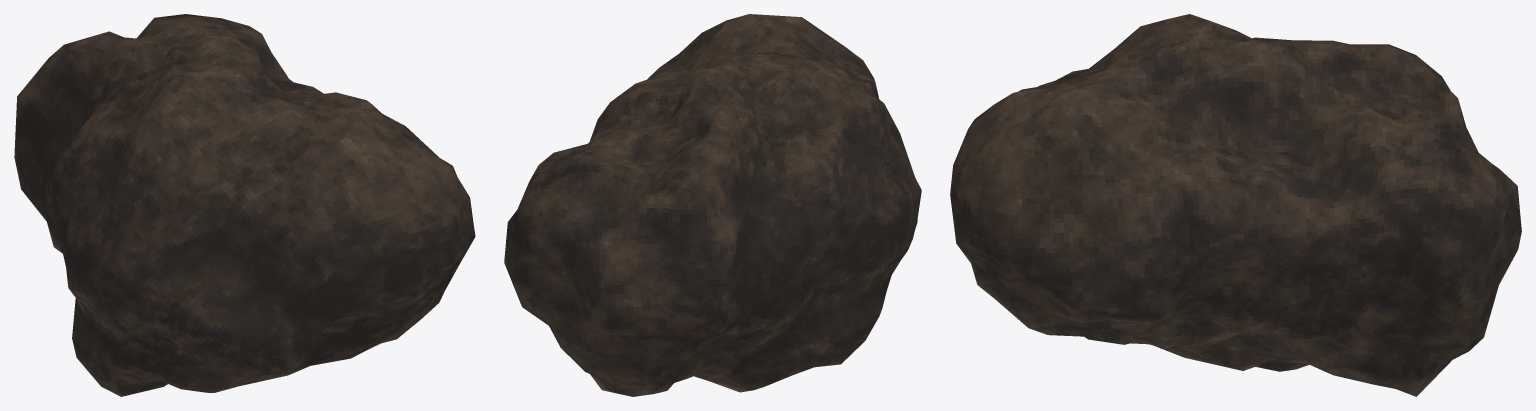
File: SM_RP2_Rock_2m_2.002.glb
3 views of the same model, side by side, from view 1: azimuth 30°, elevation 25°; view 2: azimuth 150°, elevation 25°; view 3: azimuth 270°, elevation 25° (orthographic). The views are drawn at different scales.
Parts seen in each view (by area): view 1: SM_RP2_Rock_2m_2.002; view 2: SM_RP2_Rock_2m_2.002; view 3: SM_RP2_Rock_2m_2.002.
Part boxes in pixels (<box>): SM_RP2_Rock_2m_2.002: <box>14,14,475,396</box>; SM_RP2_Rock_2m_2.002: <box>504,14,921,396</box>; SM_RP2_Rock_2m_2.002: <box>950,14,1521,396</box>.
Size of the model in its own units: 2.66 by 2.48 by 3.73.
Materials: 1 (1 with a texture image).
